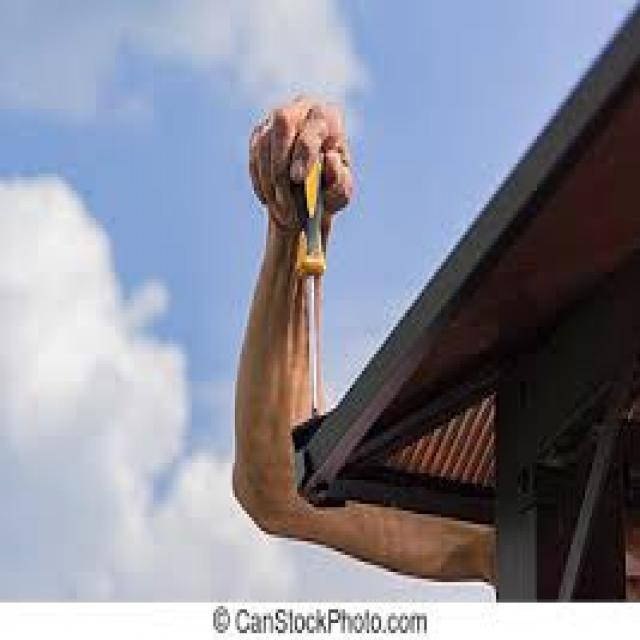screwdriver: (290, 130, 336, 416)
